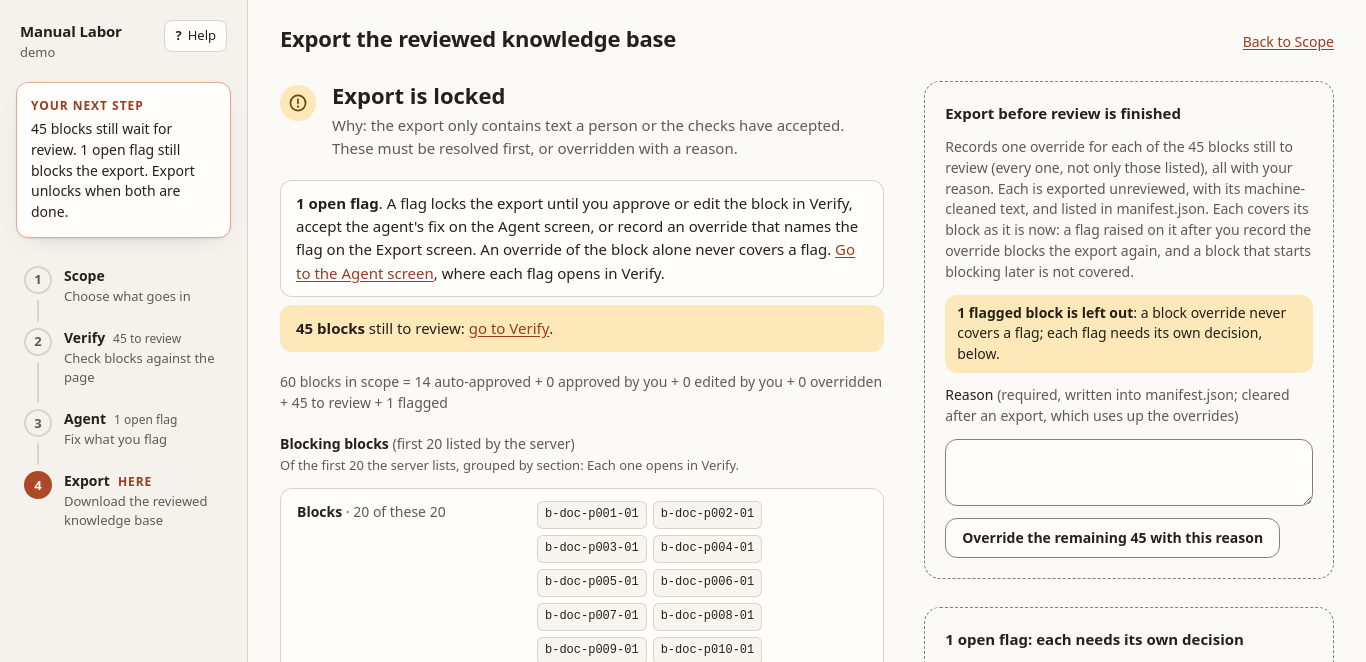
Test case: U10c override the remaining blocks in one decision › one click, one reason: all 45 unflagged blocks are overridden across three pages of blockers, never the flagged one
Expected: the button with test id "override-submit" reads "Override the remaining 45 with this reason", [945,518,1280,558]
Expected: the form with test id "override-form" shows "1 flagged block is left out", [957,303,1133,322]
Type "vendor deadline" into the text box with test id "override-reason" at (1129, 472), box [945,439,1313,506]
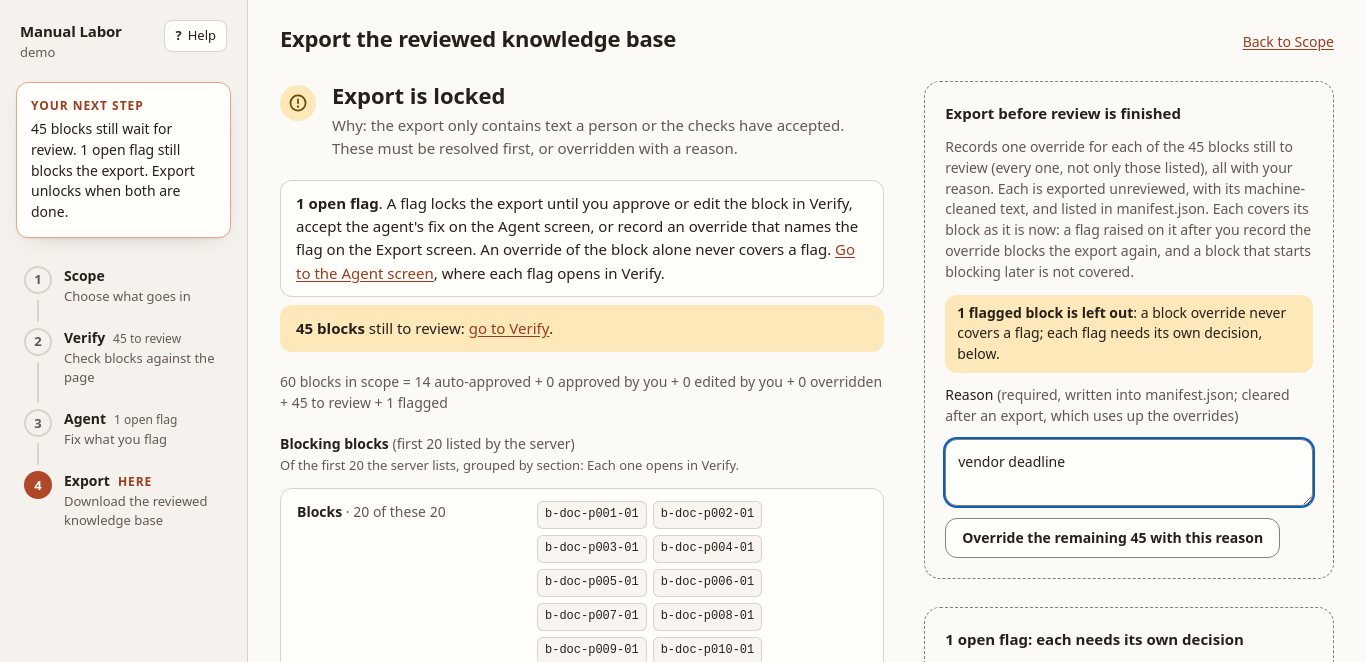
Click the button with test id "override-submit" at (1113, 538), box [945,518,1280,558]
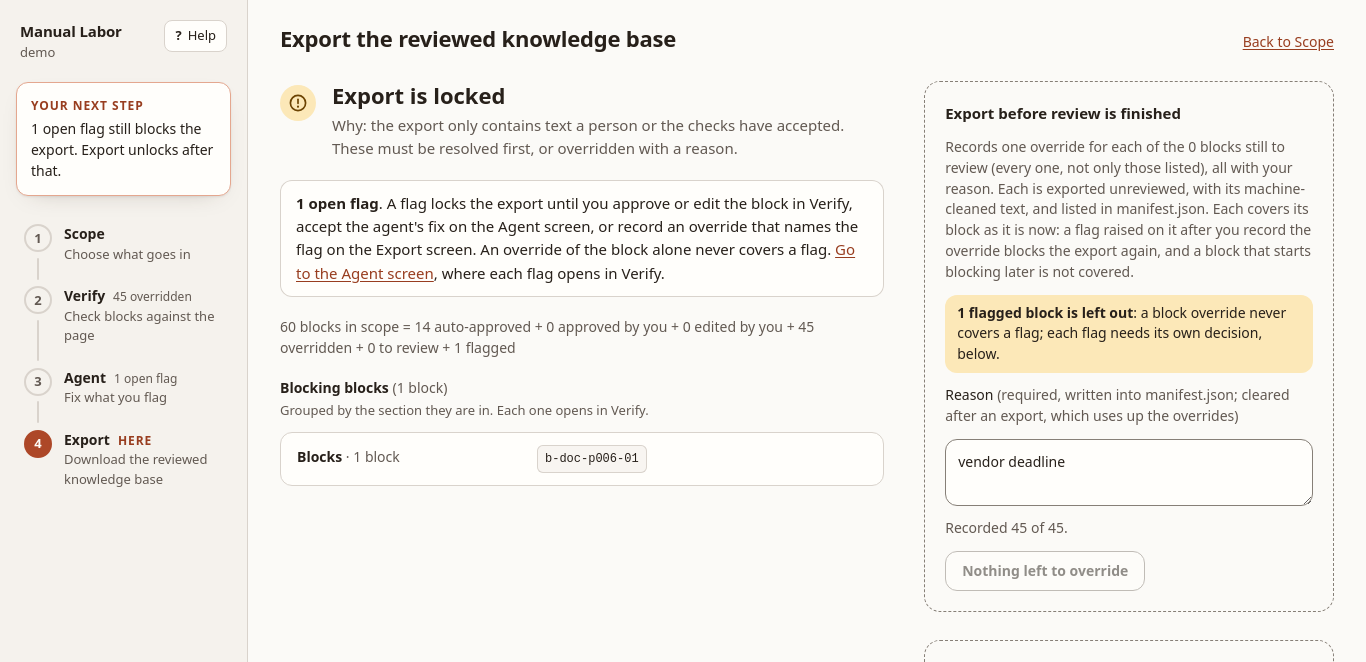
Expected: the message with test id "override-progress" shows "Recorded 45 of 45", [945,518,1068,539]
Expected: the button with test id "override-submit" is disabled, [945,551,1145,591]
Expected: the button with test id "override-submit" reads "Nothing left to override", [945,551,1145,591]
